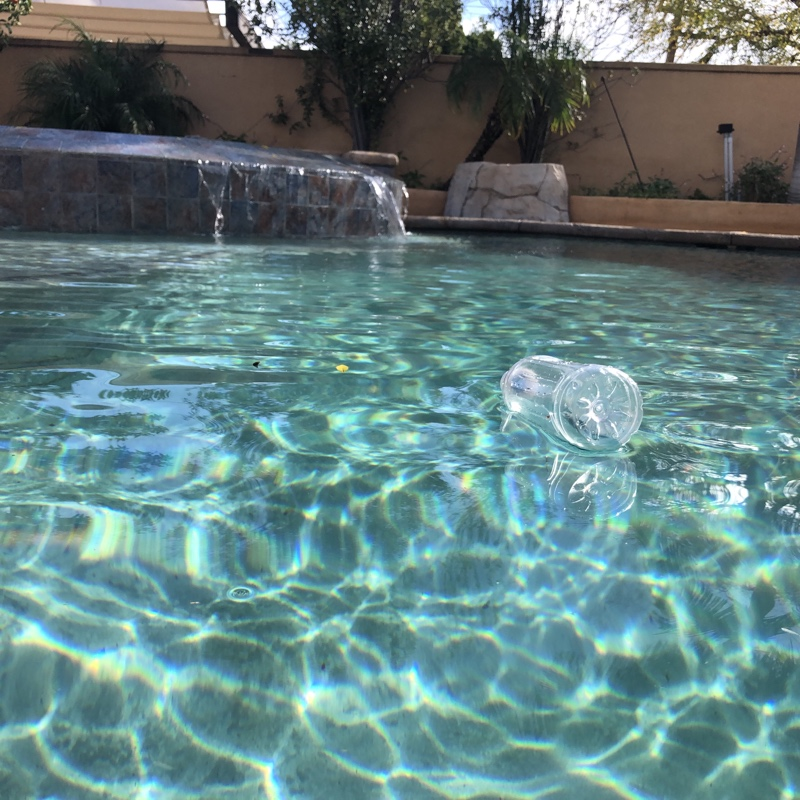Plastic Bottle: (495, 351, 644, 459)
